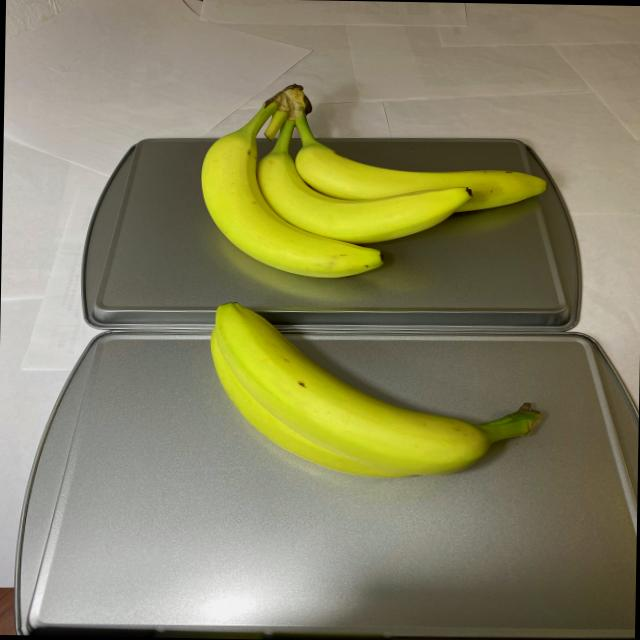banana: (192, 80, 558, 284), (196, 296, 560, 482)
